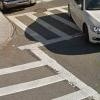Crosswalk: (14, 11, 72, 100)
